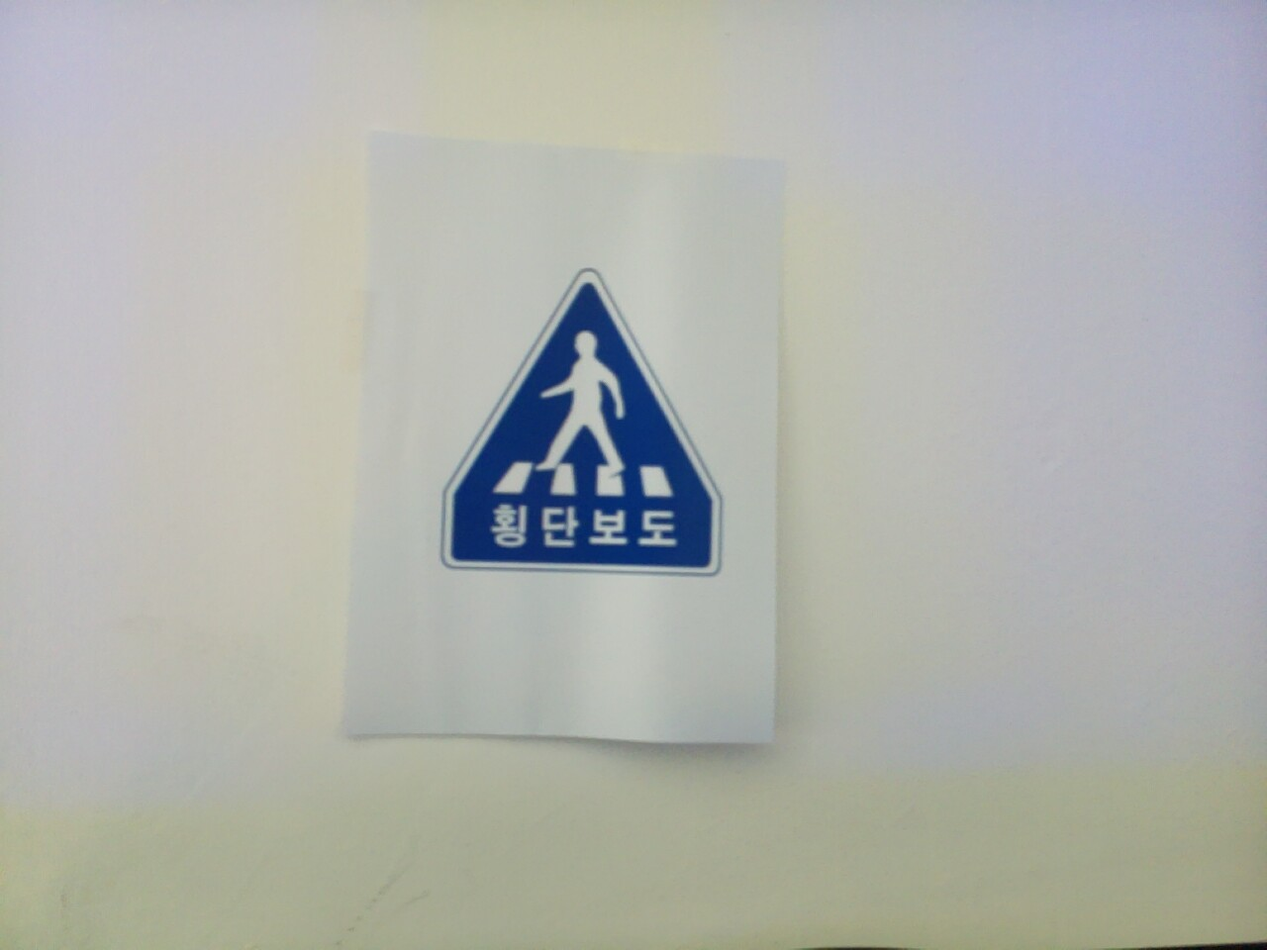crosswalk: (441, 273, 722, 577)
